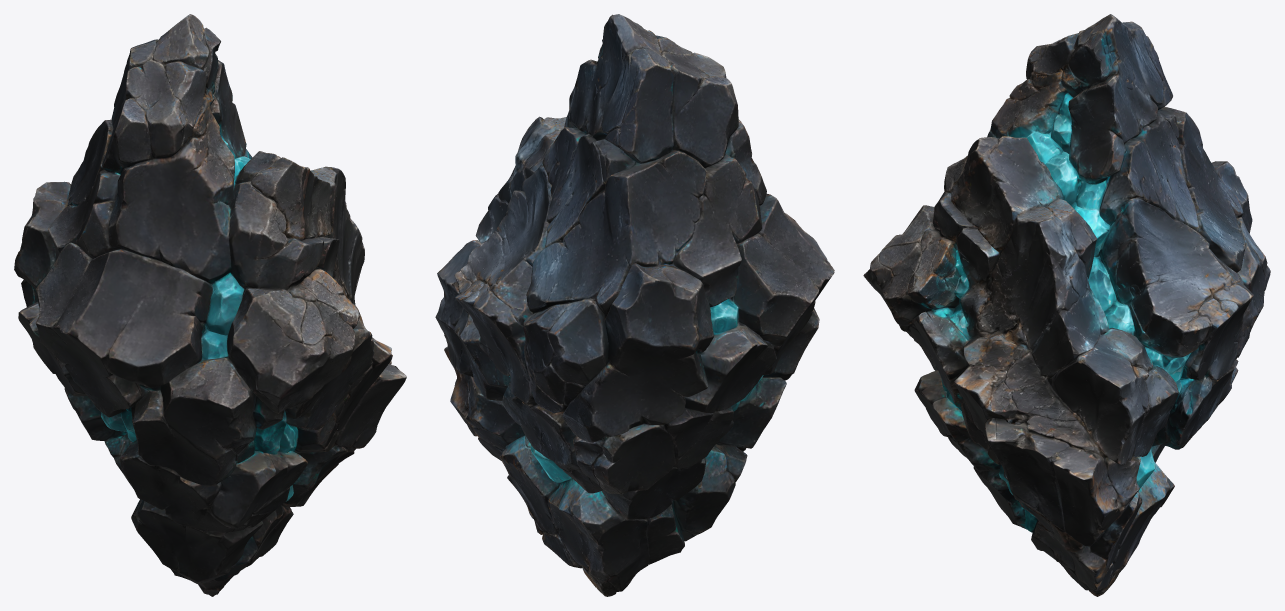
3 renders of one model, left to right at view 1: azimuth 30°, elevation 25°; view 2: azimuth 150°, elevation 25°; view 3: azimuth 270°, elevation 25°, orthographic. The views are drawn at different scales.
Visible parts, largest first — view 1: tripo_node_131641e7-d95c-4a95-bbaa-78d35acb3293; view 2: tripo_node_131641e7-d95c-4a95-bbaa-78d35acb3293; view 3: tripo_node_131641e7-d95c-4a95-bbaa-78d35acb3293.
Boxes of the visible parts, x1,y1,x2,y2 form: tripo_node_131641e7-d95c-4a95-bbaa-78d35acb3293: [14, 14, 406, 596]; tripo_node_131641e7-d95c-4a95-bbaa-78d35acb3293: [435, 14, 834, 596]; tripo_node_131641e7-d95c-4a95-bbaa-78d35acb3293: [863, 14, 1270, 596].
Size of the model in its own units: 0.6257 by 0.9826 by 0.6325.
Materials: 1 (1 with a texture image).
